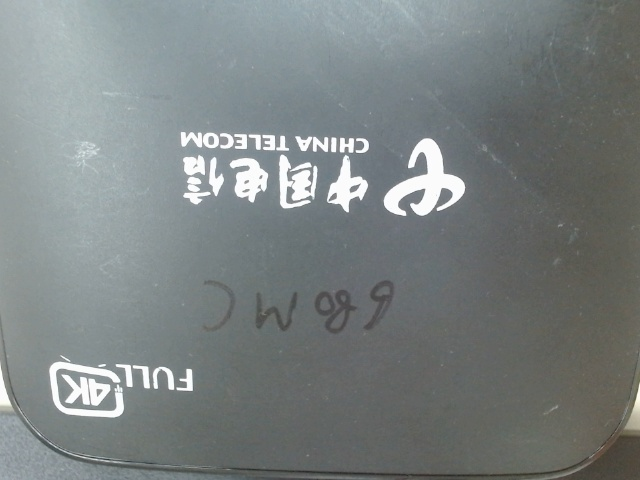AB_ChinaTelecom: (167, 114, 476, 234)
